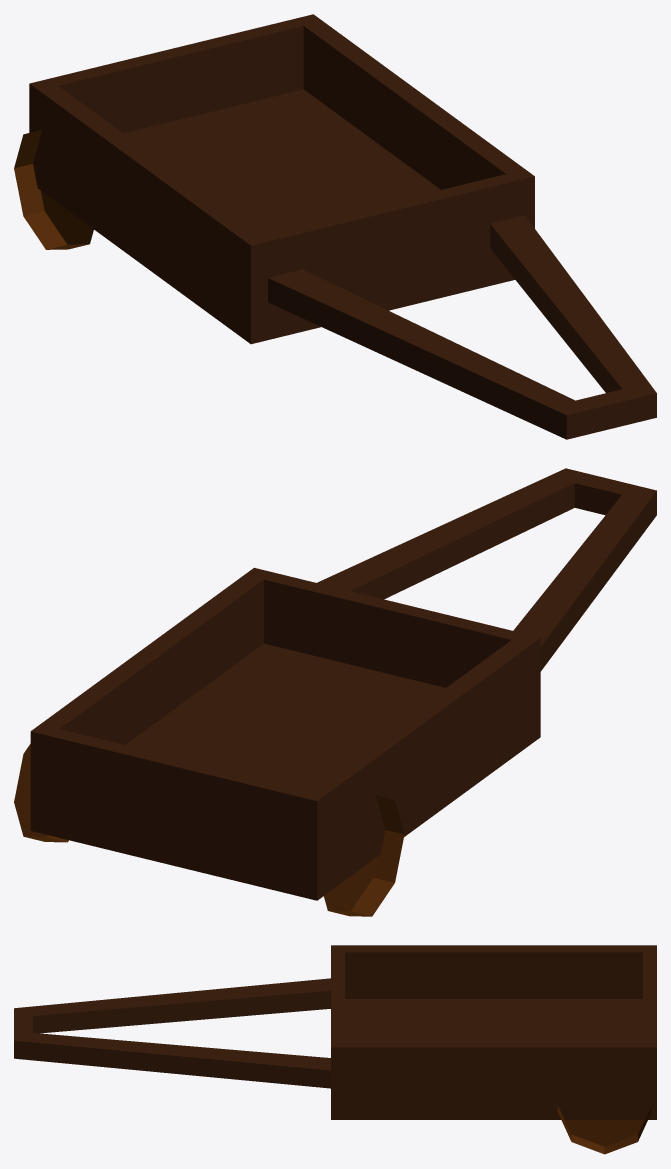
Rendered from WheelBarrelv1.fbx.
3 views of the same model, one above another, from view 1: azimuth 30°, elevation 25°; view 2: azimuth 150°, elevation 25°; view 3: azimuth 270°, elevation 25° (orthographic). The views are drawn at different scales.
Parts seen in each view (by area): view 1: Cube.068; view 2: Cube.068; view 3: Cube.068.
Part boxes in pixels (x1,y1,x2,y2): Cube.068: (14, 14, 656, 439); Cube.068: (14, 468, 656, 916); Cube.068: (14, 945, 656, 1154).
Size of the model in its own units: 17.57 by 7.05 by 41.17.
